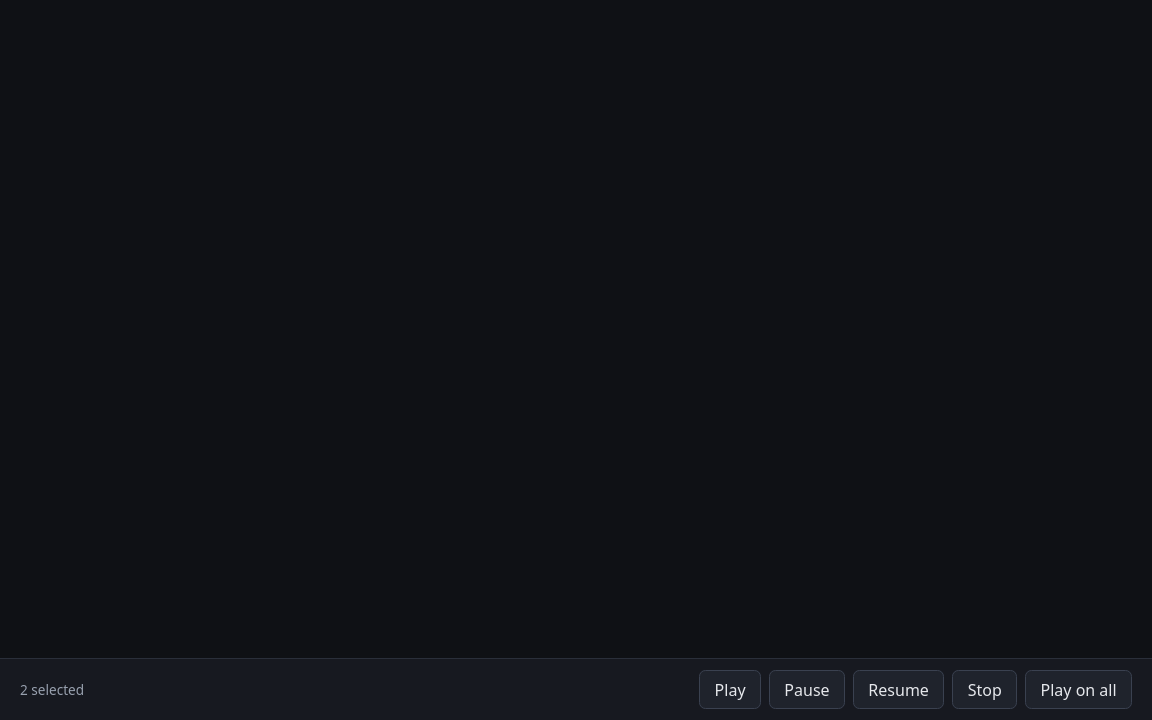
Test: reporting the result › says which TVs failed when only some did
Click the button "Stop": (985, 690) [952,670,1017,709]
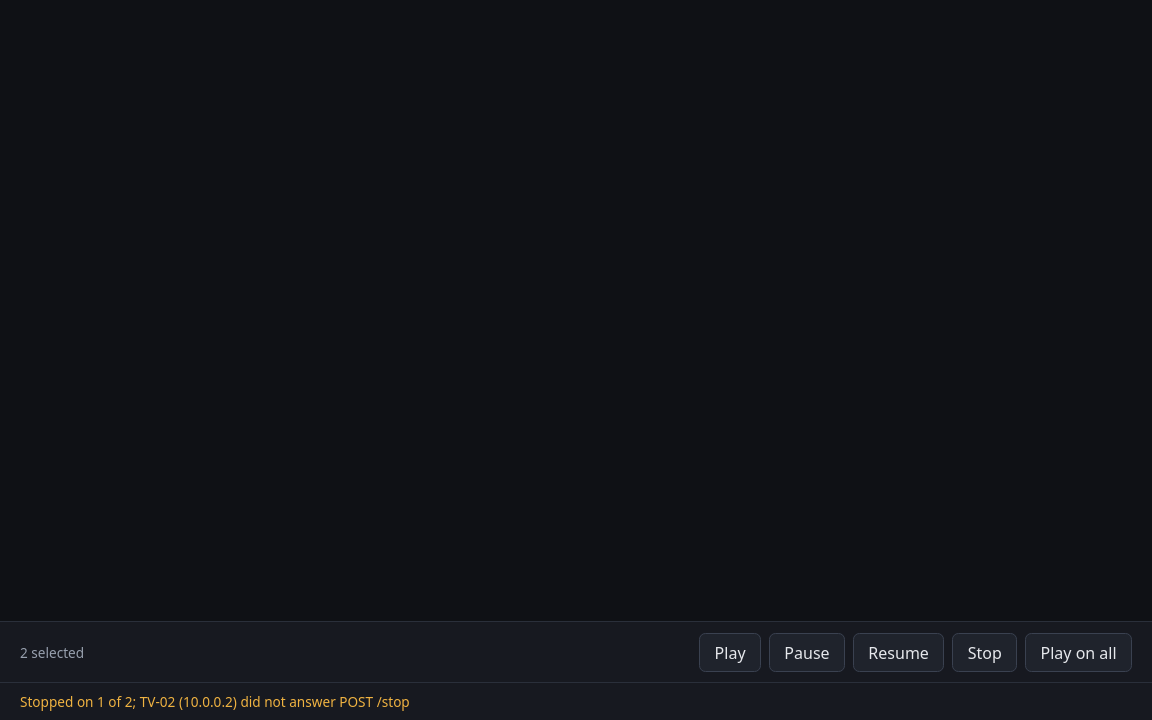
Result: the message shows "Stopped on 1 of 2" at [20,692,410,711]
Result: the message shows "TV-02" at [20,692,410,711]
